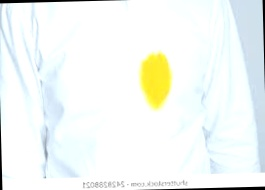mustard: (141, 53, 177, 113)
